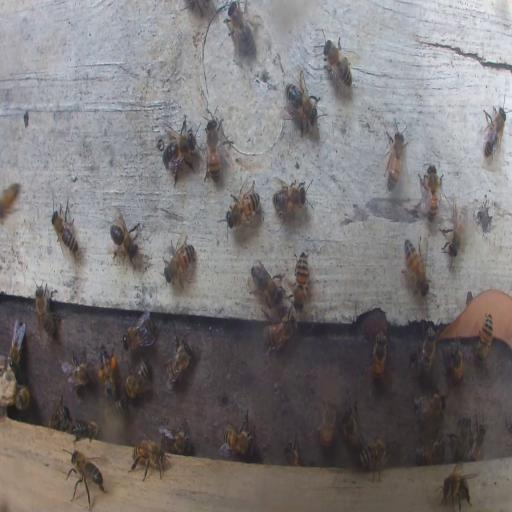nonpollenbee: (283, 70, 323, 133), (158, 120, 199, 178), (321, 33, 354, 91), (67, 450, 105, 499), (440, 200, 470, 262), (164, 234, 196, 290), (436, 465, 473, 511), (226, 2, 255, 60), (108, 211, 140, 263), (128, 438, 168, 478), (164, 333, 193, 388), (481, 105, 507, 164), (35, 280, 60, 340), (384, 122, 406, 190), (272, 178, 310, 217), (358, 434, 390, 480), (250, 263, 284, 306), (263, 312, 297, 355), (51, 202, 78, 256), (404, 238, 428, 296), (419, 162, 443, 220), (415, 322, 439, 379), (220, 420, 255, 457), (122, 312, 154, 352), (228, 188, 260, 228), (204, 116, 222, 184), (64, 350, 92, 391), (124, 358, 150, 401), (413, 390, 447, 422), (368, 332, 388, 383), (340, 403, 362, 449), (316, 400, 336, 449), (7, 318, 24, 372), (294, 250, 310, 307), (444, 342, 465, 384), (476, 314, 494, 362), (160, 425, 190, 453), (467, 420, 486, 462), (416, 441, 446, 464), (1, 182, 20, 216), (72, 418, 100, 440), (456, 416, 471, 456), (50, 399, 68, 429), (12, 382, 31, 410), (283, 439, 299, 467), (108, 398, 126, 416)
pollenbee: (97, 346, 118, 398)
